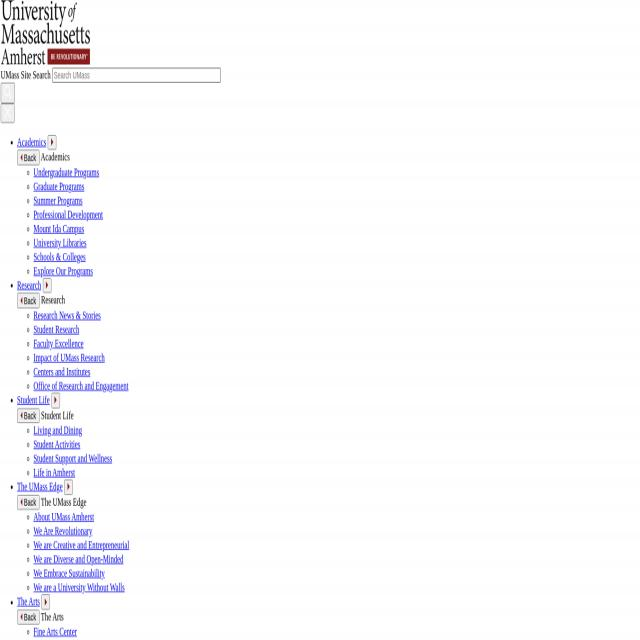button: (0, 0, 90, 63)
field: (52, 67, 220, 82)
